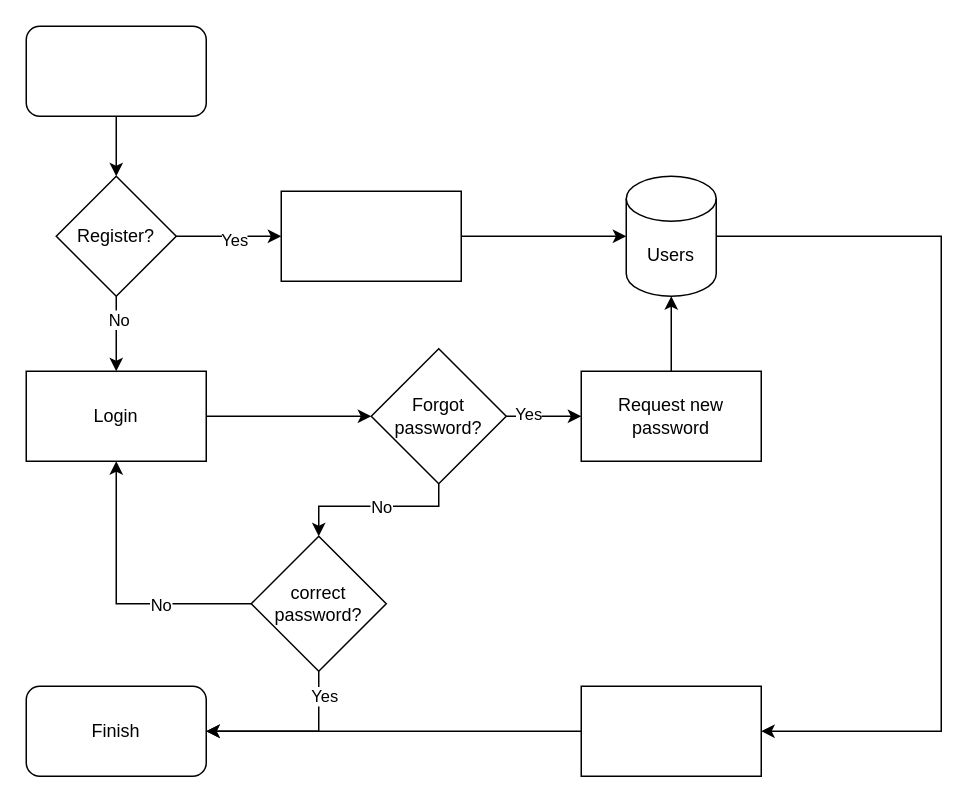
This 980x803 diagram has some shape labels left out. Here are the shapes that lost their labels. From the top down, the centre of each, then its label:
At point 115,70: "Start".
At point 370,235: "Register".
At point 670,730: "New password".
